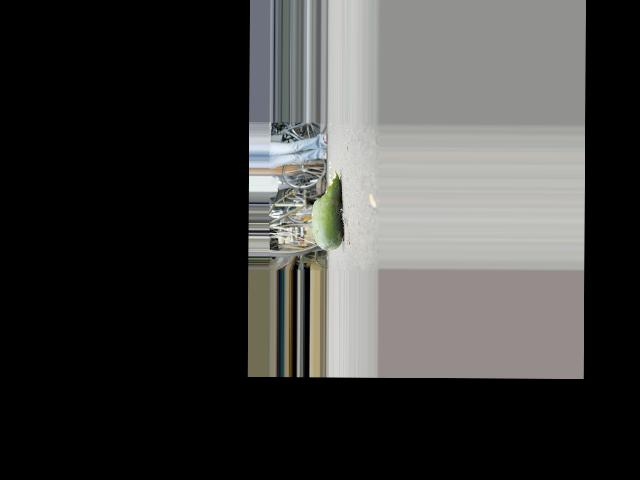cucumber: (311, 169, 343, 250)
